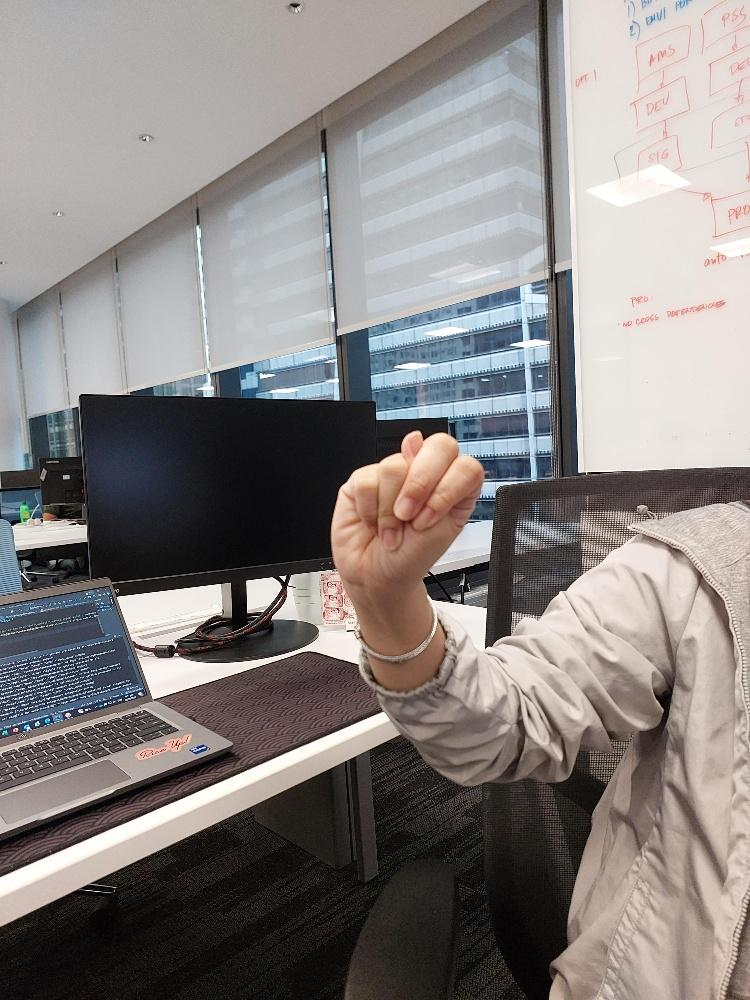n: (327, 429, 482, 588)
